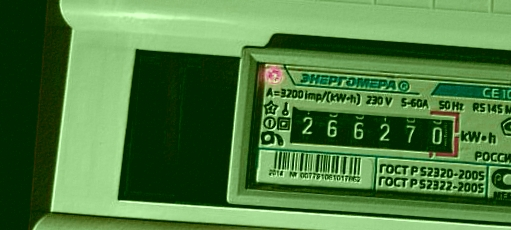0: (430, 125, 445, 146)
2: (299, 116, 316, 137), (377, 122, 393, 143)
6: (325, 118, 340, 140), (352, 121, 367, 142)
7: (403, 124, 417, 144)
screen: (280, 96, 468, 164)
